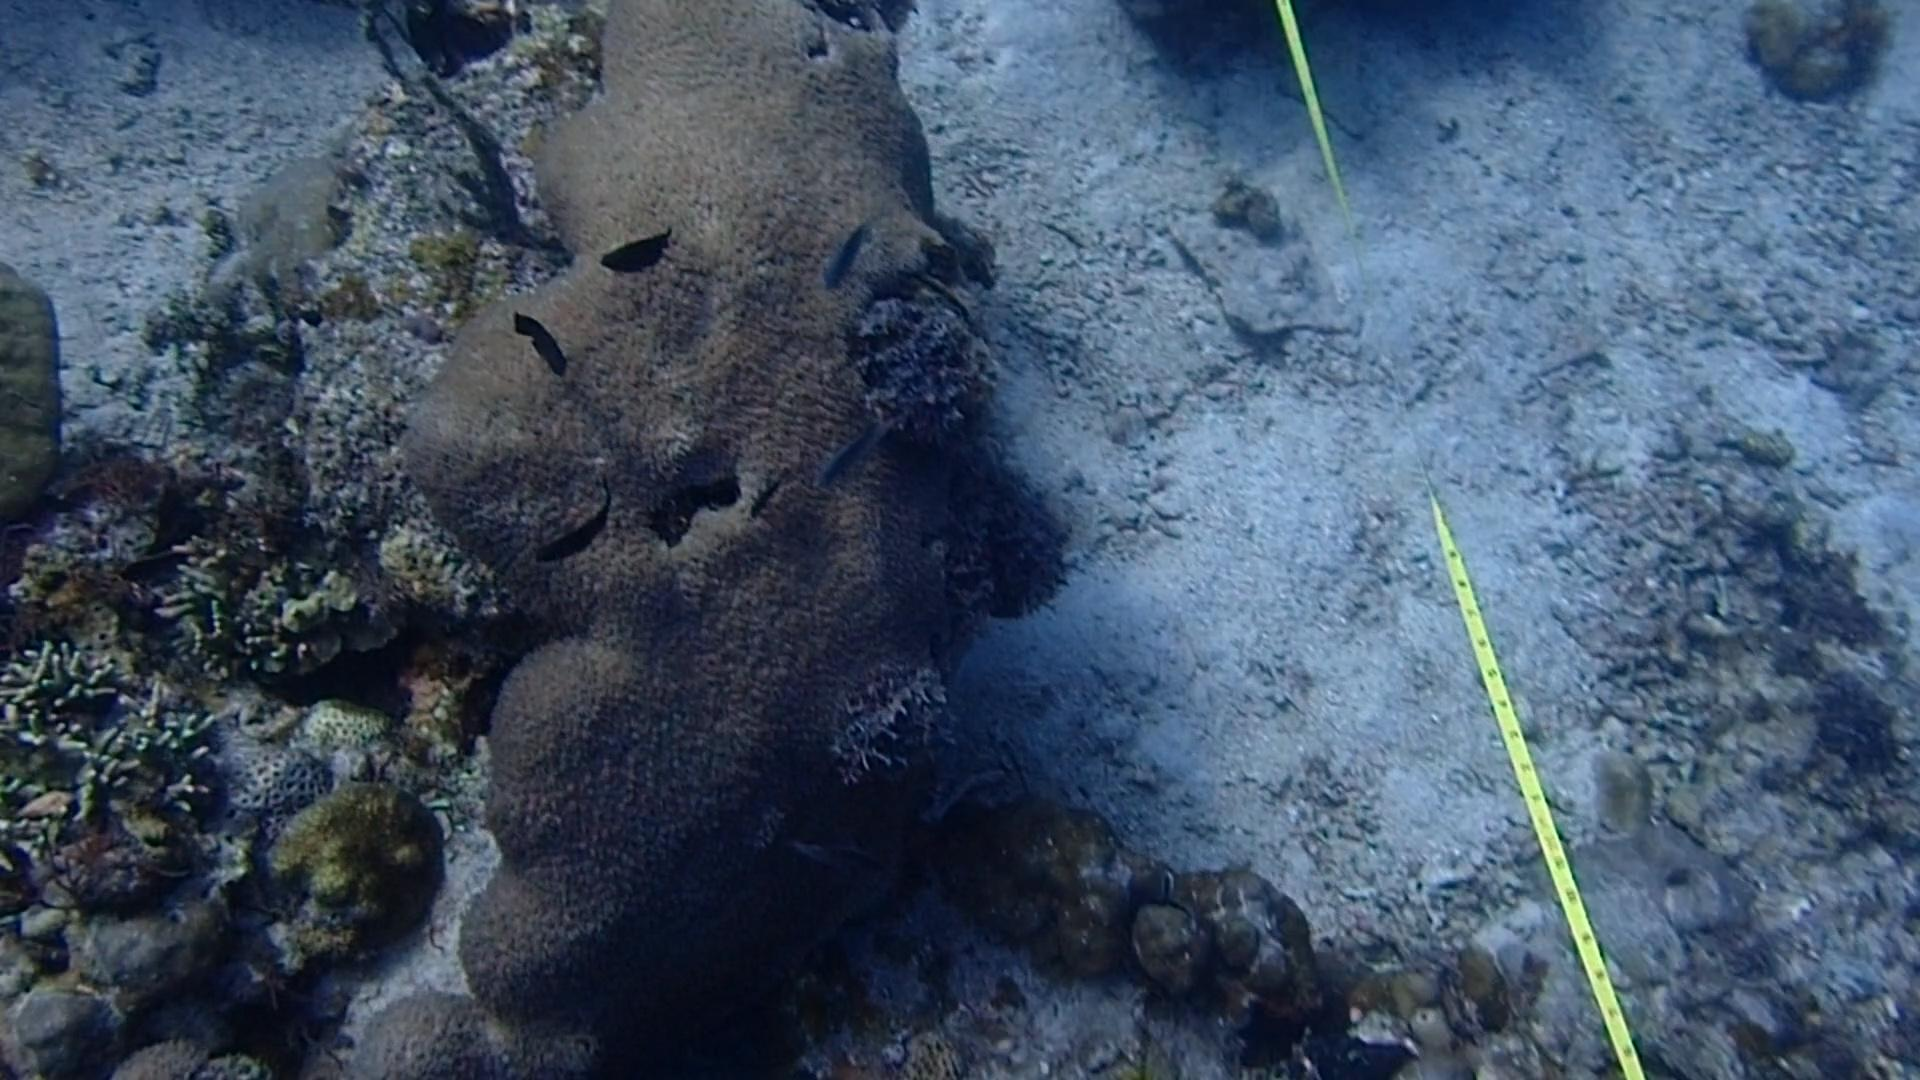Dark Fish: (527, 472, 629, 575), (502, 305, 576, 389), (599, 220, 678, 285), (737, 467, 790, 522)
Light Fish: (808, 413, 907, 497), (789, 827, 895, 894), (812, 220, 876, 284)
